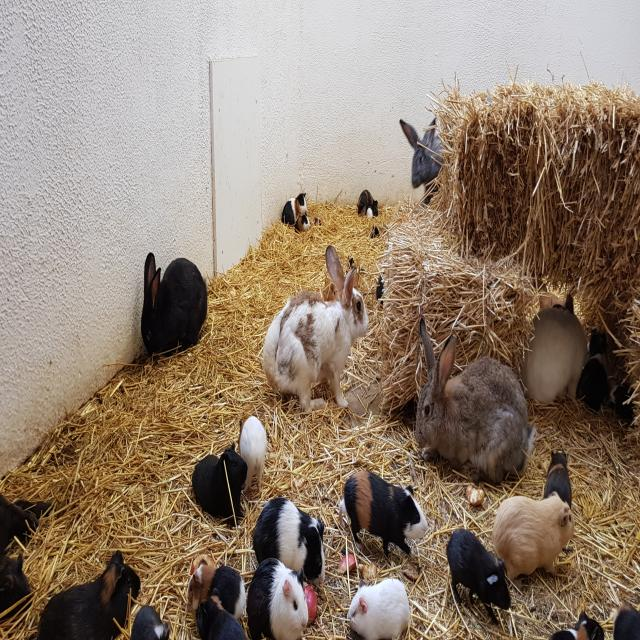guinea pig: (37, 547, 142, 640), (337, 466, 428, 562), (492, 489, 576, 588), (252, 495, 330, 586), (444, 524, 512, 628), (244, 554, 308, 637), (190, 445, 248, 529), (345, 570, 413, 640), (187, 556, 244, 620), (575, 320, 614, 412), (193, 590, 246, 640), (234, 415, 266, 495), (542, 444, 574, 511), (281, 191, 307, 225), (355, 186, 380, 219), (295, 212, 310, 235)
